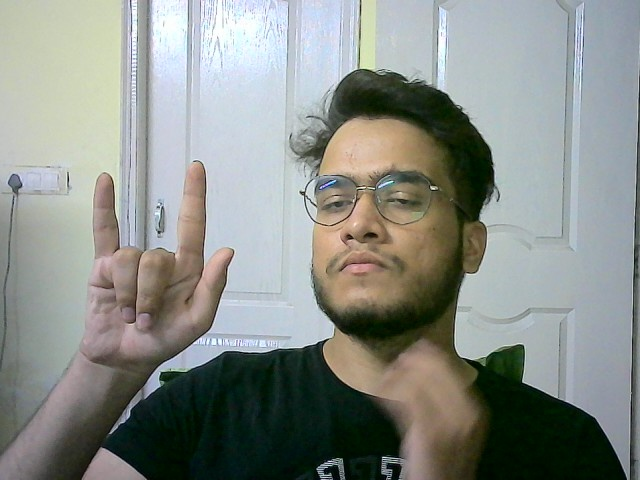I Love You: (81, 153, 234, 375)
